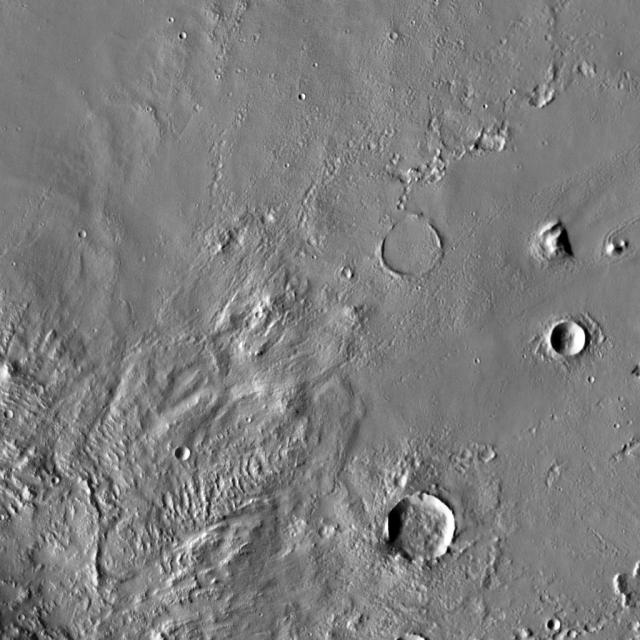crater: (384, 498, 452, 563), (384, 220, 442, 276), (553, 323, 588, 358), (478, 136, 495, 152), (491, 135, 507, 151), (532, 93, 546, 108), (178, 448, 192, 461), (482, 447, 495, 460), (493, 609, 506, 622), (578, 63, 591, 75), (515, 630, 528, 640), (319, 528, 330, 539), (264, 215, 274, 226), (536, 85, 546, 96), (247, 317, 257, 328), (343, 269, 353, 279), (551, 622, 561, 632), (584, 624, 594, 634), (5, 412, 14, 421), (308, 237, 317, 246), (79, 229, 88, 238), (568, 630, 577, 639), (390, 32, 399, 40), (368, 143, 376, 151), (546, 34, 554, 42), (53, 476, 61, 484), (19, 613, 27, 621), (554, 634, 564, 640), (588, 376, 595, 384), (180, 31, 188, 38), (398, 204, 406, 211), (292, 86, 299, 93), (401, 196, 408, 203), (494, 31, 501, 38), (249, 304, 257, 310), (611, 76, 618, 82), (524, 421, 530, 427), (574, 625, 580, 631)
